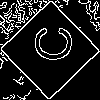C: (25, 25, 72, 62)
